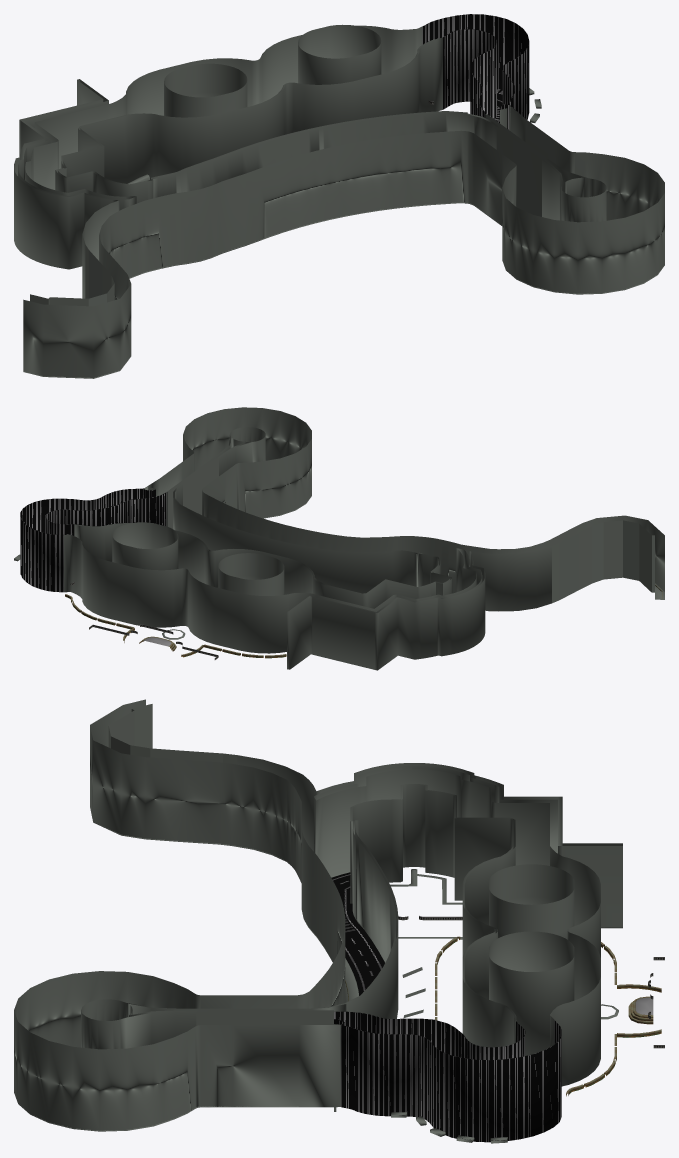
File: DaisyCircuit_road.glb
3 views of the same model, one above another, from view 1: azimuth 30°, elevation 25°; view 2: azimuth 150°, elevation 25°; view 3: azimuth 270°, elevation 25° (orthographic). The views are drawn at different scales.
Parts seen in each view (by area): view 1: polygon456; view 2: polygon456, polygon451; view 3: polygon456, polygon451.
Boxes of the visible parts, x1,y1,x2,y2 form: polygon456: [14, 14, 664, 378]; polygon456: [14, 407, 664, 670]; polygon451: [65, 582, 662, 659]; polygon456: [14, 699, 622, 1143]; polygon451: [345, 915, 664, 1096].
Bounding box in the file's own units: 761 × 110 × 569.
Materials: 3 (3 with a texture image).
